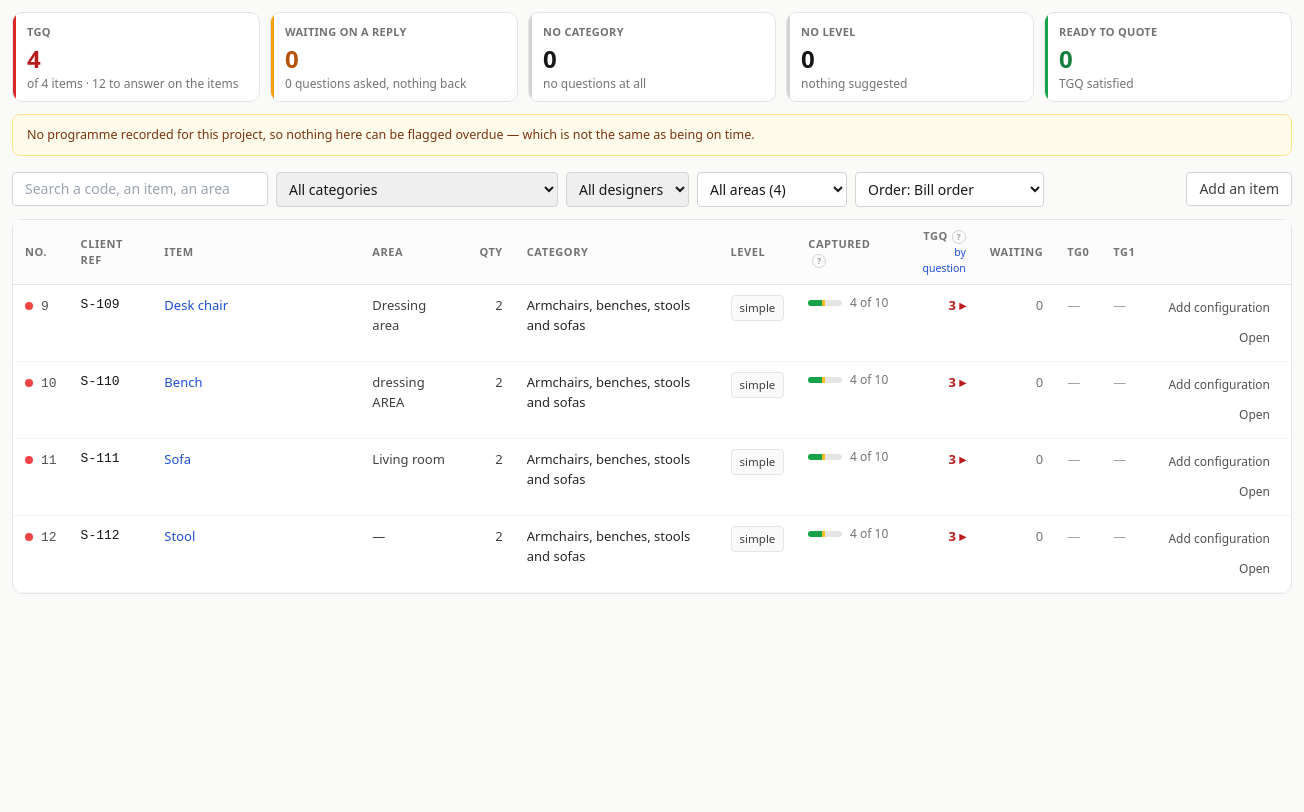
it: the area select › finds a record nobody has placed, rather than dropping it
The image size is (1304, 812).
Select "No area given (1)" in the dropdown named "Filter by area" at (772, 189), box [697, 172, 847, 206]
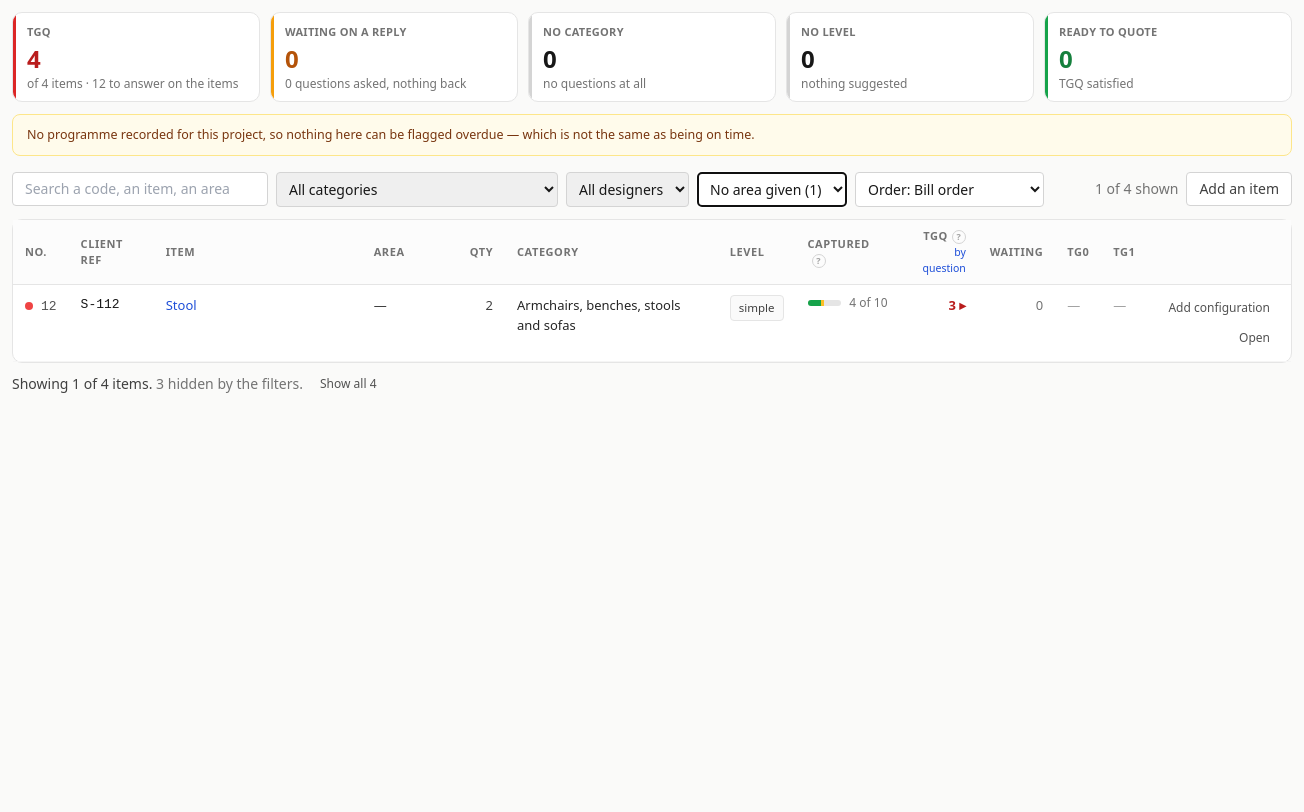
expect the text "Stool" is shown: met, box [166, 296, 197, 314]
expect the link "Desk chair" is gone: met
